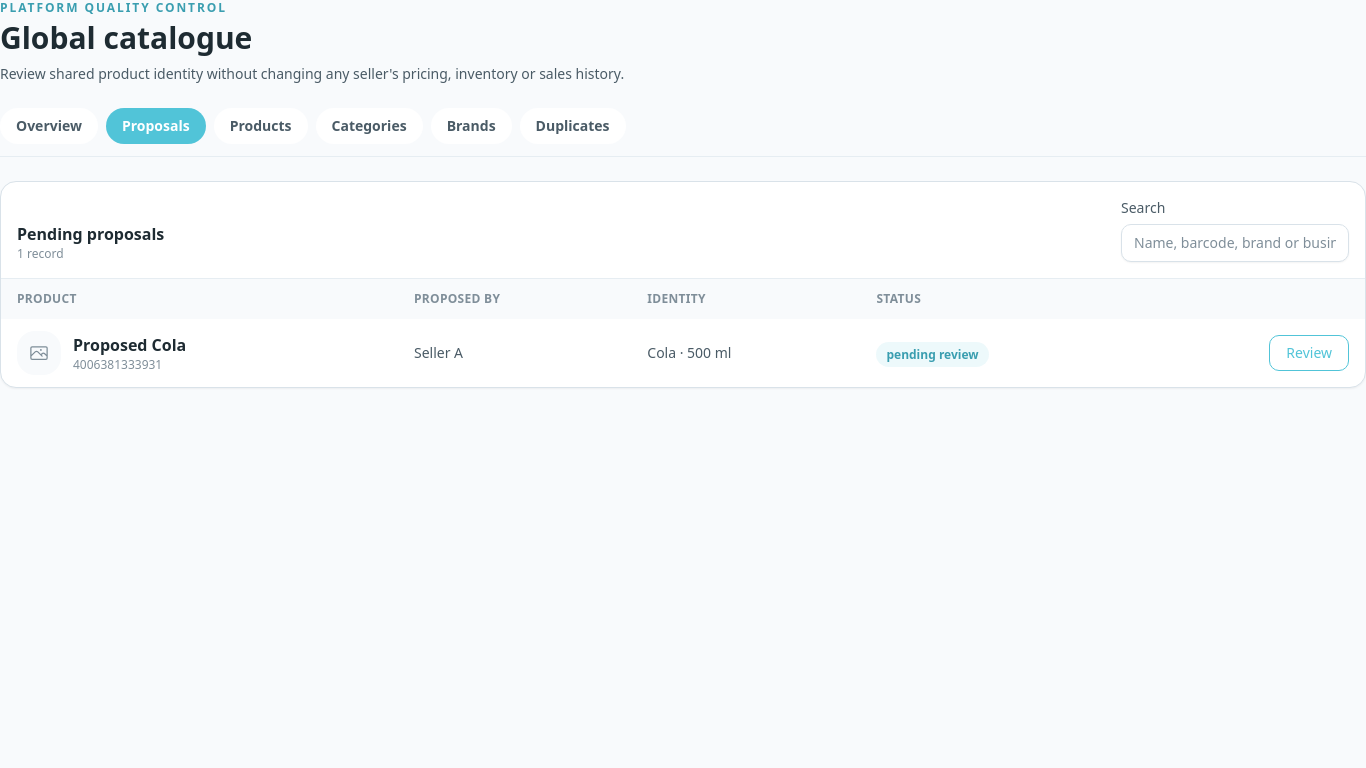
platform catalogue moderation › hides mutation controls when effective permissions do not allow moderation
The image size is (1366, 768).
Click the button "Review": (1309, 353) 1269,335 -> 1349,371
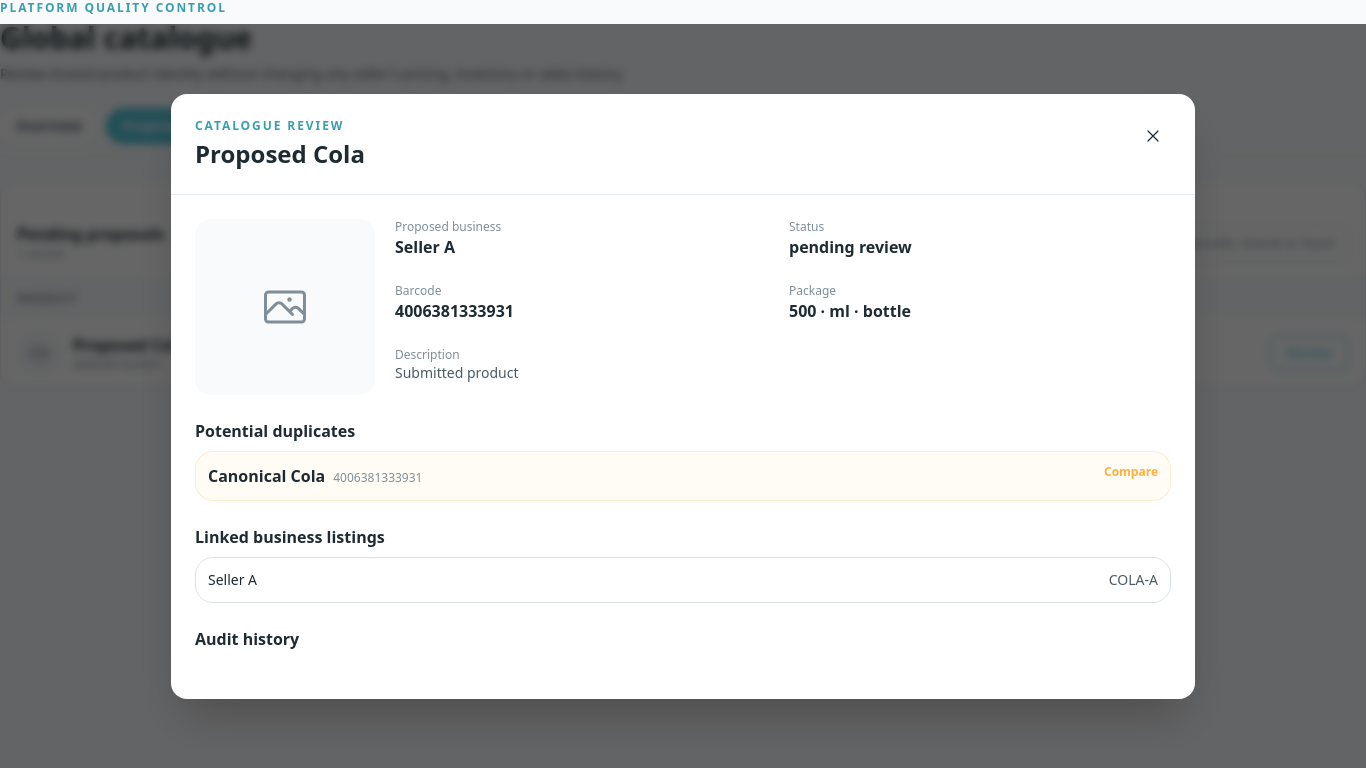
Now the text "Submitted product" is shown, box 395,362 -> 518,382
